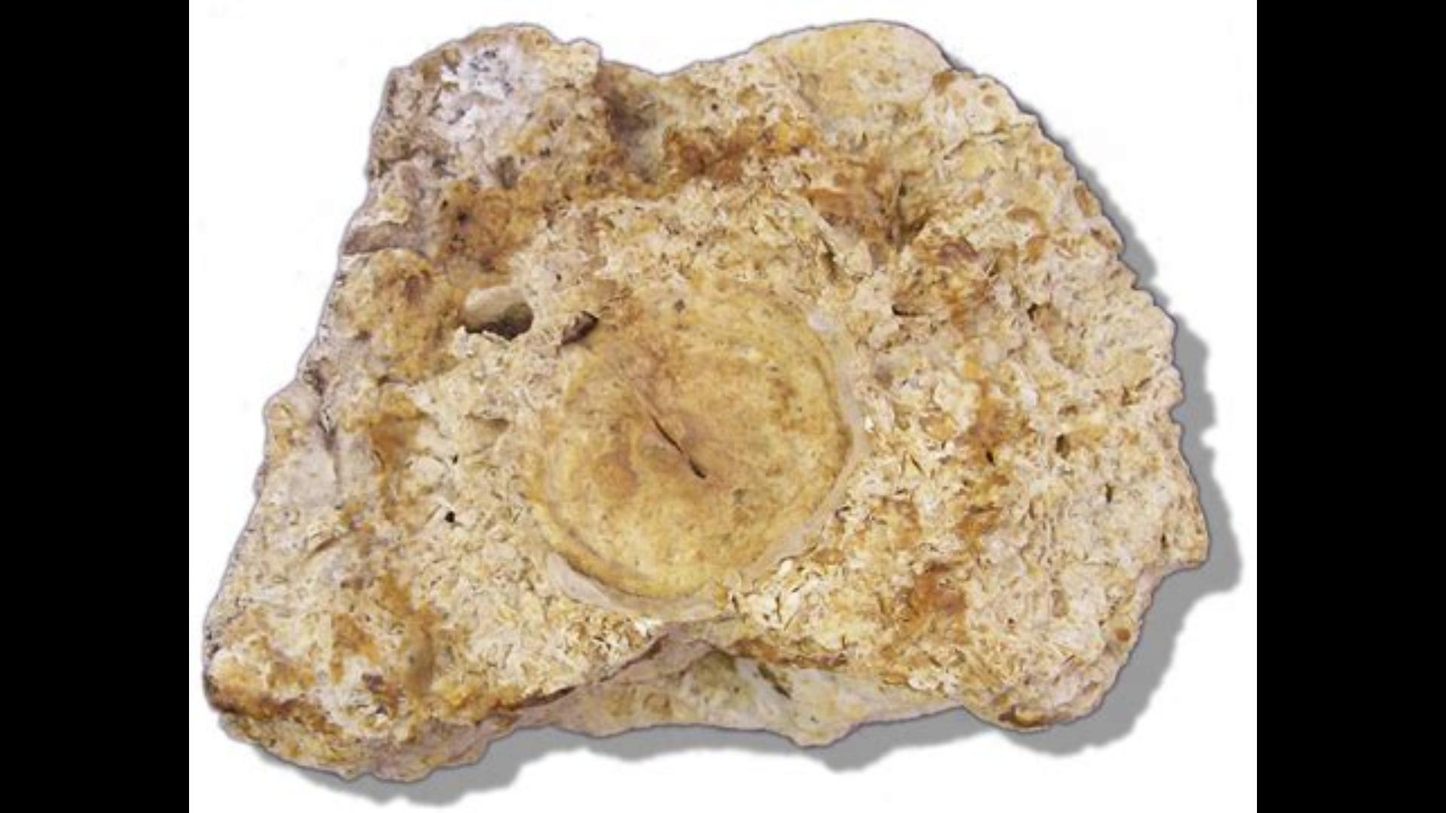rock: (209, 29, 1203, 775)
